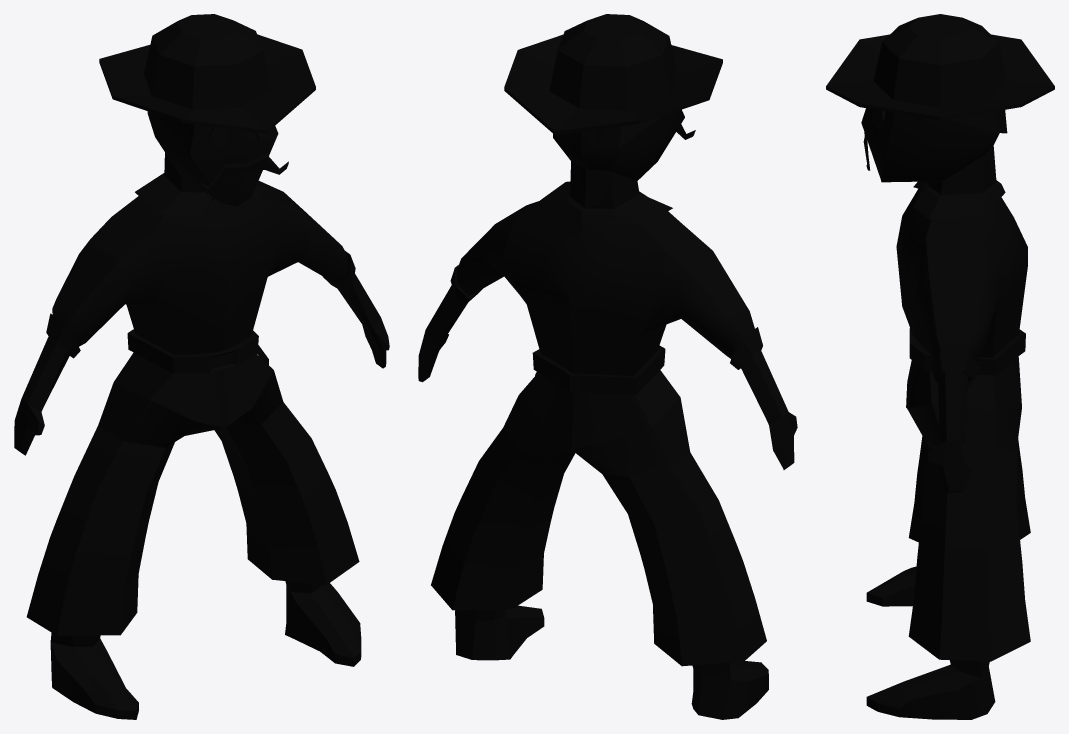
File: char_static.fbx
3 renders of one model, left to right at view 1: azimuth 30°, elevation 25°; view 2: azimuth 150°, elevation 25°; view 3: azimuth 270°, elevation 25°, orthographic. The views are drawn at different scales.
Parts seen in each view (by area): view 1: char; view 2: char; view 3: char.
Boxes of the visible parts, bbox=[...] form: char: bbox=[14, 14, 389, 719]; char: bbox=[418, 14, 797, 719]; char: bbox=[826, 14, 1054, 719].
Size of the model in its own units: 61.33 by 102 by 33.85.
1 material, 1 textured.
